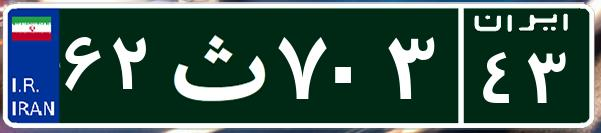0: (330, 28, 385, 110)
2: (110, 28, 158, 105)
3: (385, 28, 445, 110), (525, 38, 570, 115)
4: (475, 38, 525, 113)
6: (57, 26, 110, 107)
7: (273, 28, 330, 110)
ث: (158, 15, 273, 115)
